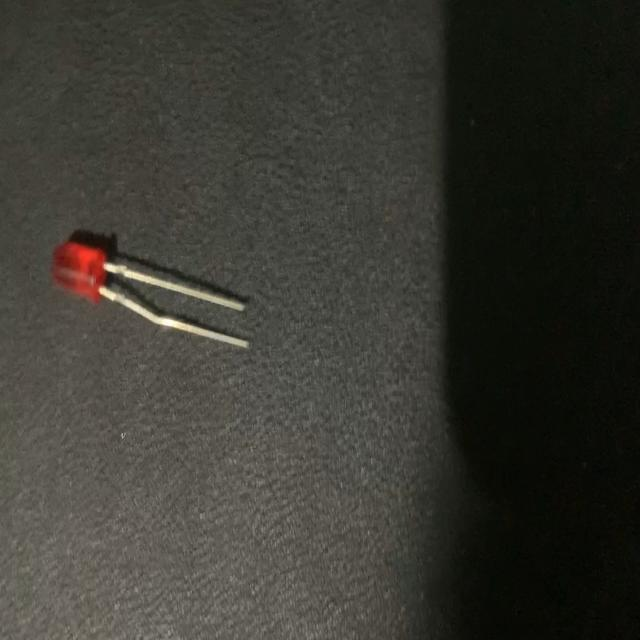LED: (49, 235, 249, 352)
